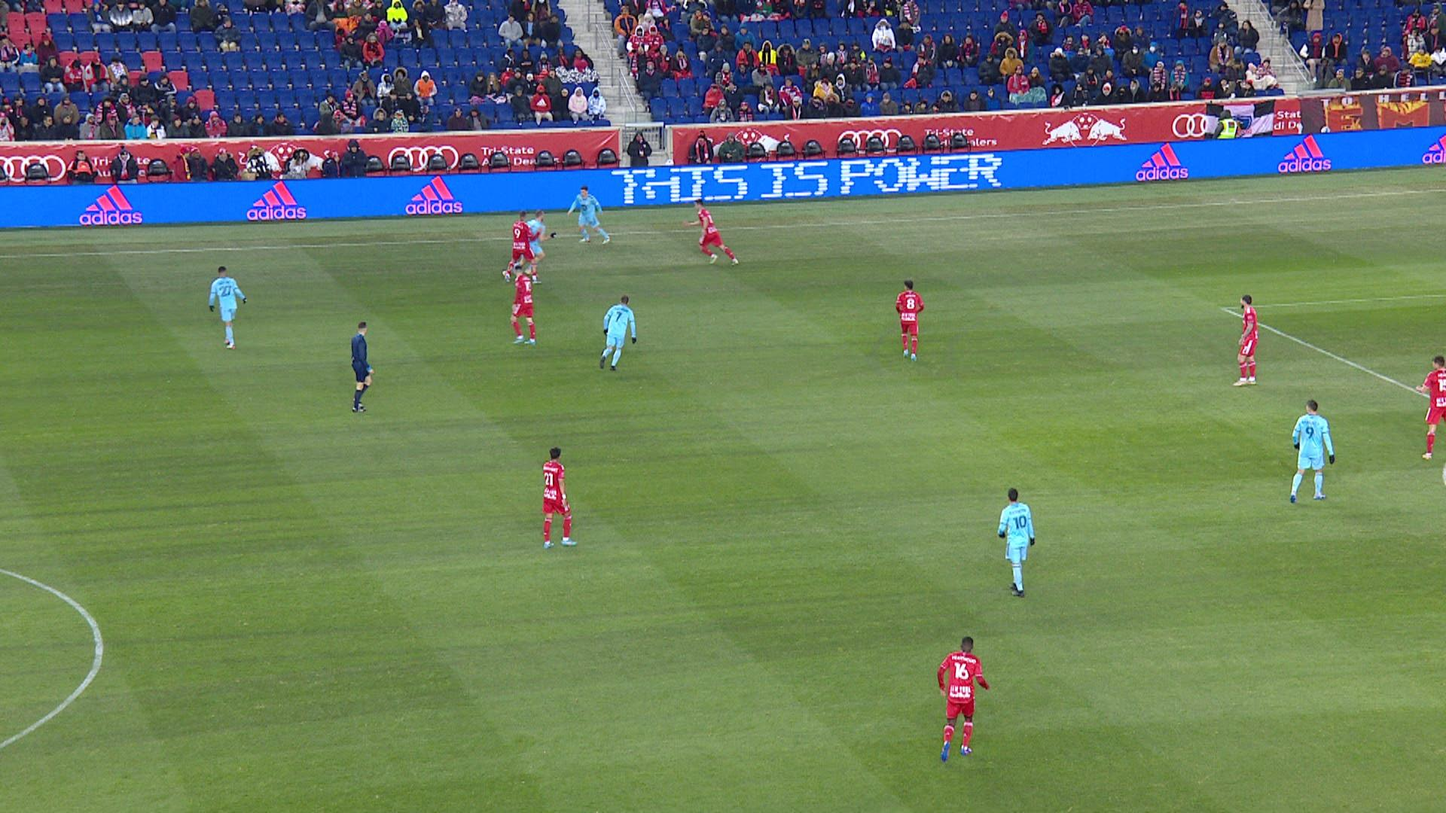Player: (938, 637, 990, 761), (1290, 400, 1335, 503), (997, 488, 1035, 598), (683, 199, 739, 266), (542, 447, 577, 549), (209, 266, 247, 349), (1416, 355, 1446, 460), (502, 210, 542, 284), (600, 296, 636, 371), (568, 186, 610, 244), (1233, 295, 1258, 386), (896, 280, 924, 361), (510, 266, 536, 345), (526, 209, 556, 265), (512, 254, 527, 273), (525, 263, 531, 274)
referee: (351, 321, 374, 412)
